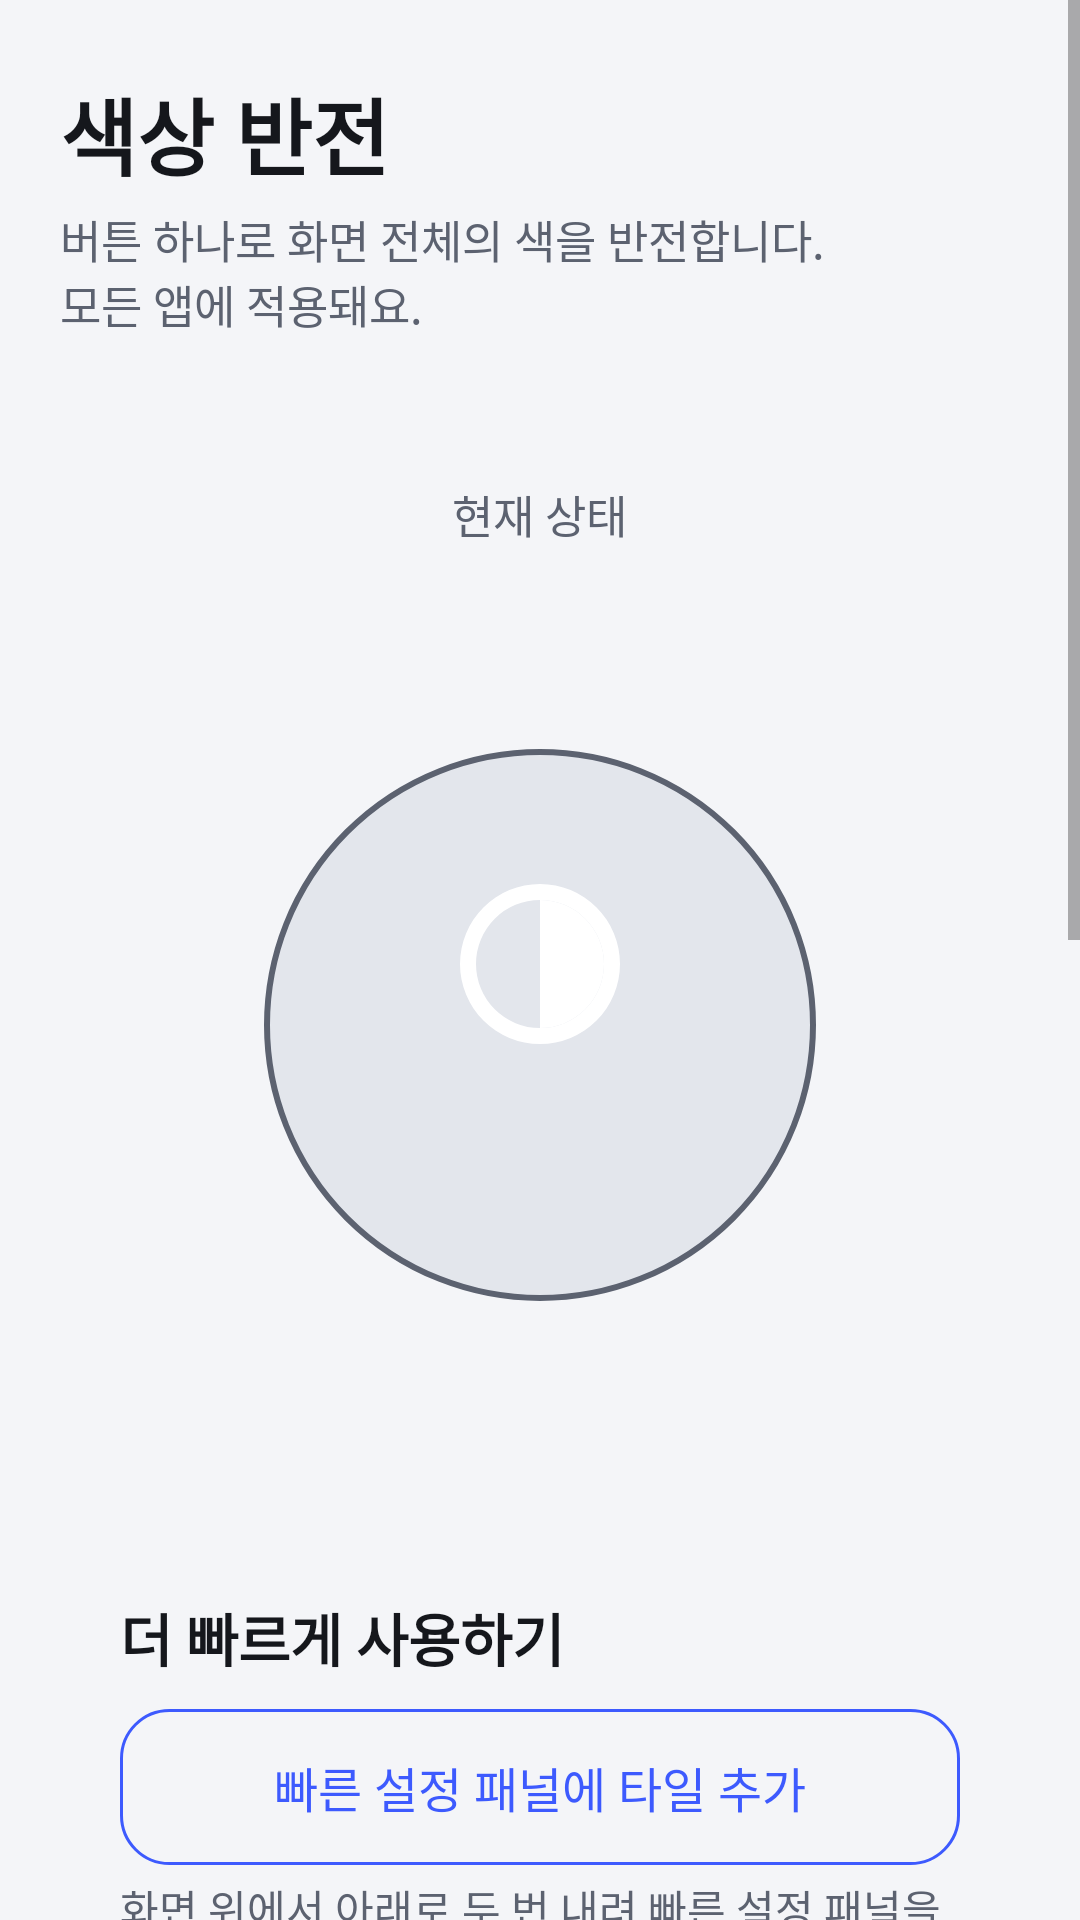

Point at icon controls on the screen. Image size 1080 × 1920, points as (x=x, y=y).
contrast: (x=540, y=964)
